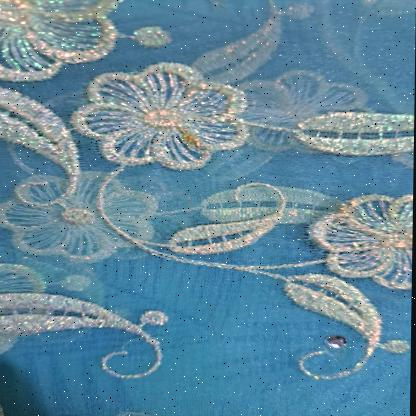spot: (309, 189, 368, 218), (175, 125, 212, 153)
